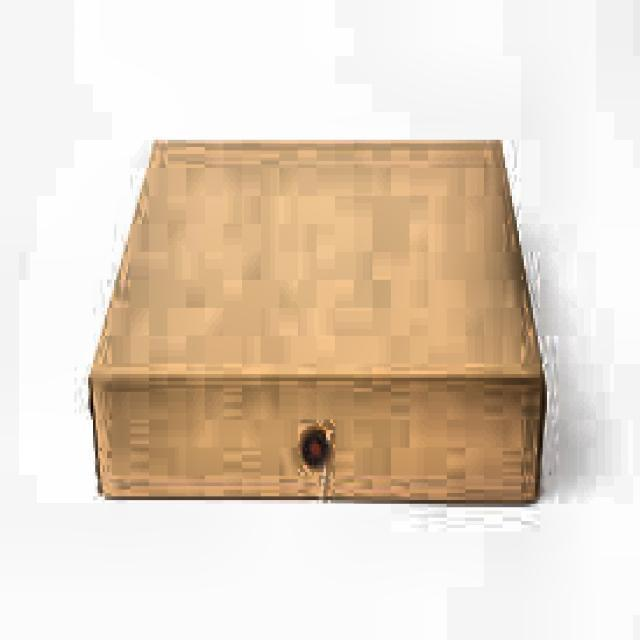cardboard: (86, 133, 545, 504)
